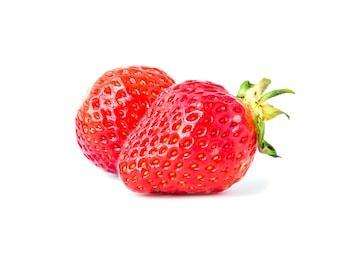Fresa: (114, 74, 263, 200), (71, 63, 189, 179)
